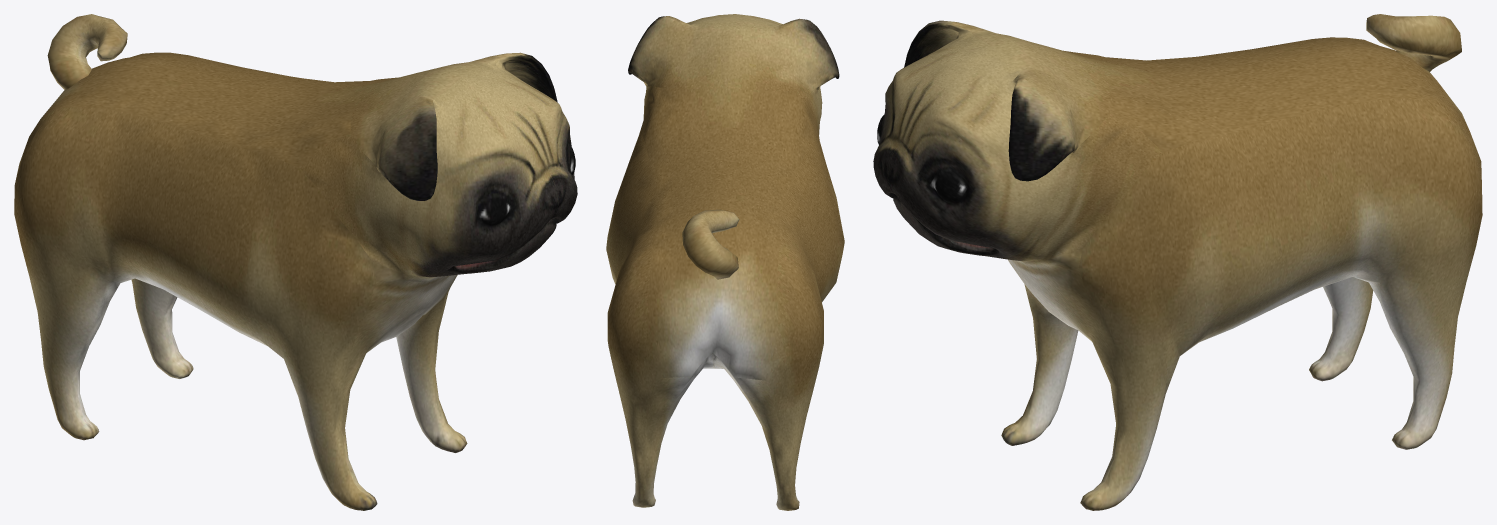
The picture shows the model from 3 angles, left to right: view 1: azimuth 30°, elevation 25°; view 2: azimuth 150°, elevation 25°; view 3: azimuth 270°, elevation 25°; orthographic projection. The views are drawn at different scales.
Parts seen in each view (by area): view 1: pug; view 2: pug; view 3: pug.
Boxes of the visible parts, box(x1,y1,x2,y2) form: pug: box(14, 14, 577, 510); pug: box(606, 14, 844, 510); pug: box(873, 14, 1482, 510).
Size of the model in its own units: 1.81 by 1.93 by 2.39.
1 material, 1 textured.
